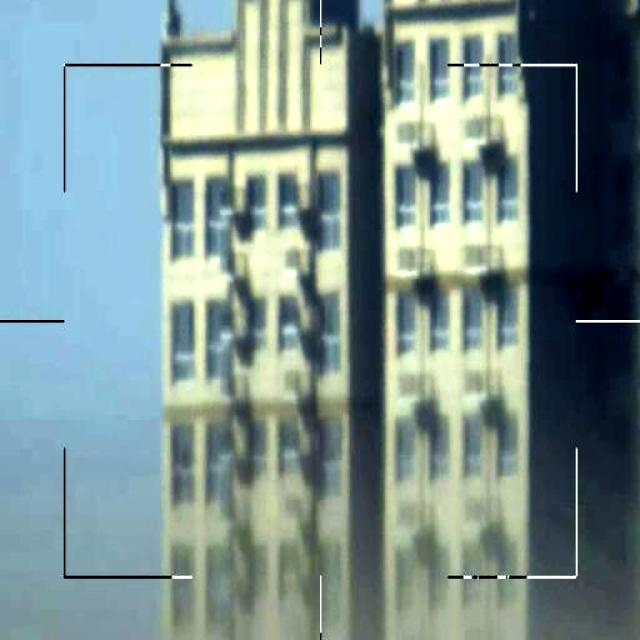bird: (564, 266, 618, 321)
